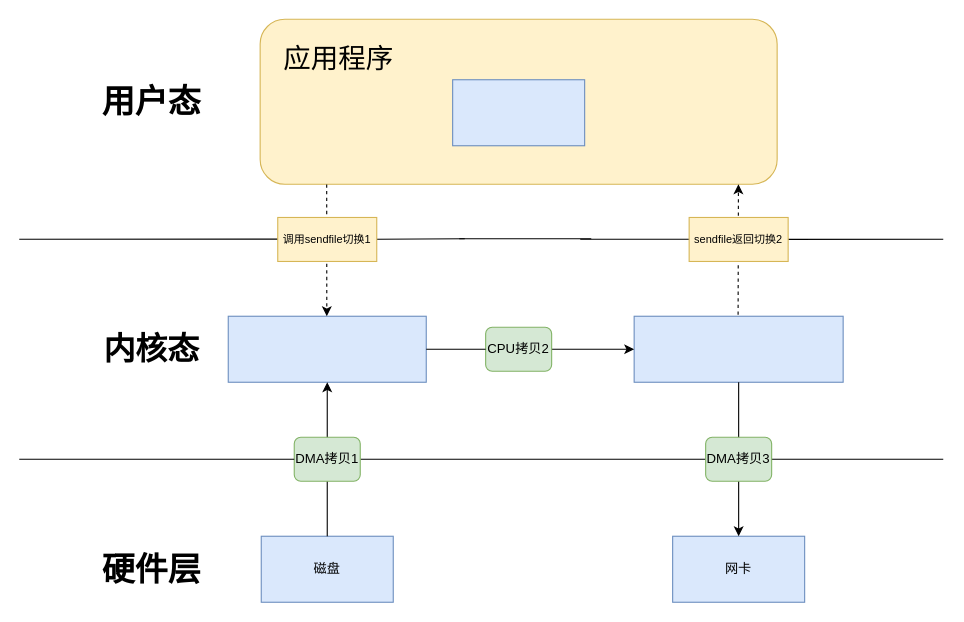
This 964x622 diagram has some shape labels left out. Here are the shapes that lost their labels. From the top down, the centre of each, then its label:
the point at 518,112: 用户缓冲区
the point at 326,348: 内核缓冲区
the point at 738,348: socket缓冲区
